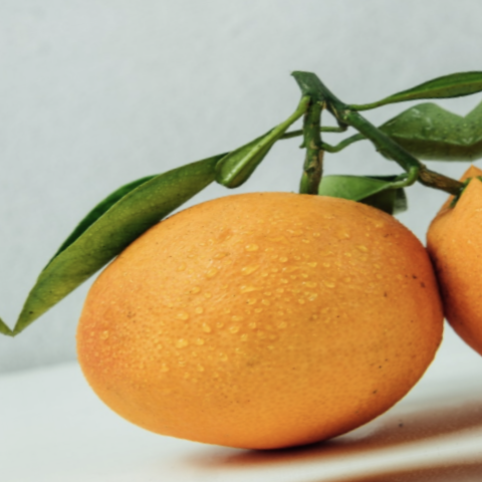orange: (14, 129, 482, 482)
